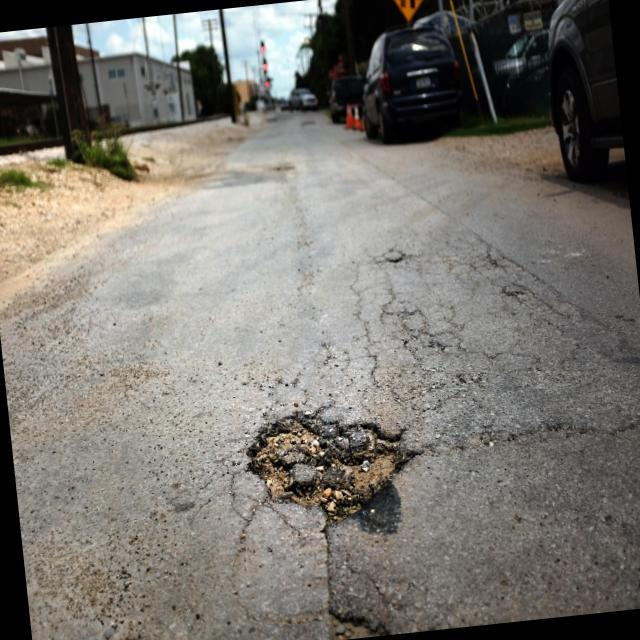Pothole: (228, 367, 426, 527)
